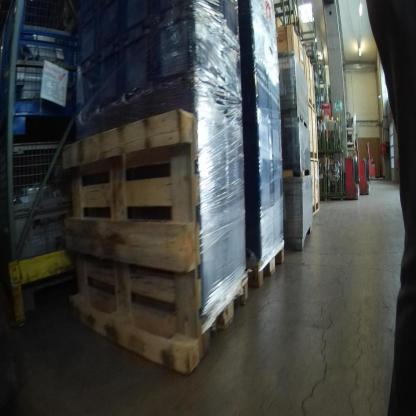pallet: (56, 98, 204, 380), (194, 269, 253, 370), (247, 238, 287, 291), (284, 221, 312, 252), (279, 110, 310, 134), (284, 161, 310, 183), (304, 53, 320, 73)
pallet_truck: (343, 131, 363, 203), (365, 147, 388, 183), (358, 137, 371, 200)
stillage: (2, 129, 90, 300), (3, 3, 83, 122)
